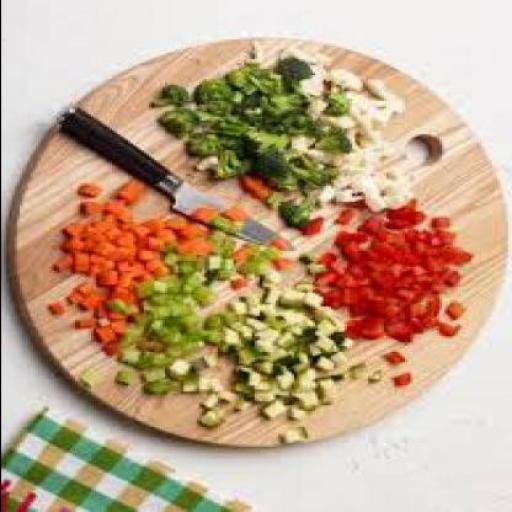biodegradable: (261, 85, 306, 127), (365, 136, 414, 174), (258, 138, 296, 186), (230, 63, 282, 95), (296, 152, 338, 191), (312, 118, 356, 153), (190, 130, 243, 156), (380, 247, 414, 287), (250, 124, 288, 159), (198, 148, 248, 174), (361, 176, 391, 218), (198, 78, 233, 114), (164, 104, 203, 136), (278, 111, 320, 140), (406, 227, 438, 263), (282, 190, 317, 222), (388, 200, 430, 226), (361, 90, 391, 125), (300, 63, 330, 97), (396, 277, 435, 303), (282, 306, 314, 336), (151, 83, 190, 107), (375, 79, 404, 111), (332, 65, 367, 91), (230, 292, 264, 318), (319, 304, 349, 332), (348, 314, 386, 336), (385, 316, 422, 338), (287, 51, 312, 83), (322, 372, 346, 404), (248, 174, 275, 201), (92, 227, 120, 253), (372, 287, 398, 314), (121, 178, 146, 206), (359, 212, 383, 241), (425, 263, 446, 295), (385, 166, 406, 198), (361, 126, 391, 148), (414, 298, 439, 324), (150, 340, 177, 364), (179, 235, 211, 255), (126, 320, 151, 345), (312, 267, 338, 291), (440, 296, 468, 318), (432, 316, 460, 338), (298, 386, 325, 408), (285, 423, 314, 443), (211, 229, 235, 253), (338, 174, 364, 196), (184, 312, 206, 338), (388, 227, 410, 252), (293, 269, 314, 295), (264, 298, 285, 324), (359, 248, 383, 270), (314, 334, 338, 356), (351, 285, 369, 312), (282, 284, 304, 306), (224, 326, 246, 348), (192, 285, 220, 302), (324, 287, 349, 306), (425, 262, 443, 288), (169, 356, 190, 378), (280, 328, 301, 350), (266, 344, 294, 360), (312, 352, 338, 369), (190, 204, 216, 221), (253, 336, 280, 352), (235, 346, 259, 364), (182, 334, 206, 352), (158, 316, 185, 332), (211, 251, 230, 273), (446, 247, 472, 263), (378, 348, 404, 364), (256, 245, 282, 261), (74, 249, 90, 275), (335, 111, 359, 128), (177, 295, 201, 312), (364, 268, 380, 293), (224, 308, 249, 324), (96, 267, 116, 287), (325, 248, 343, 270), (232, 322, 254, 340), (348, 267, 372, 283), (113, 368, 132, 388), (343, 230, 362, 249), (441, 227, 459, 247), (254, 314, 274, 332), (80, 180, 100, 198), (301, 287, 322, 304), (306, 217, 328, 233), (250, 40, 266, 62), (200, 410, 222, 426), (390, 368, 415, 382), (272, 281, 290, 300), (169, 331, 187, 350), (56, 251, 76, 268), (182, 223, 208, 236), (206, 312, 227, 328), (243, 255, 264, 271), (147, 380, 172, 393), (147, 365, 172, 378), (113, 228, 138, 241), (262, 324, 280, 342), (444, 264, 464, 280), (320, 182, 336, 202), (196, 352, 216, 368), (349, 86, 361, 112), (388, 194, 412, 207), (92, 253, 116, 266), (351, 360, 369, 377), (201, 392, 219, 409), (264, 267, 282, 284), (106, 194, 124, 211), (156, 291, 172, 310), (166, 212, 185, 228), (84, 200, 103, 216), (76, 280, 95, 296), (346, 156, 362, 174), (306, 48, 324, 64), (293, 401, 311, 417), (209, 326, 227, 342), (103, 322, 119, 340), (69, 287, 87, 303), (118, 246, 140, 259), (66, 238, 87, 251), (124, 344, 140, 361), (116, 293, 132, 310), (132, 261, 148, 278), (208, 264, 235, 274), (335, 334, 354, 348), (219, 215, 238, 229), (274, 255, 296, 267), (332, 346, 348, 362), (317, 322, 333, 338), (140, 350, 156, 366), (116, 314, 132, 330), (66, 219, 82, 235), (113, 285, 138, 295), (47, 302, 66, 315), (222, 388, 240, 401), (119, 202, 137, 215), (111, 332, 124, 350), (82, 294, 100, 307), (153, 263, 172, 275), (76, 314, 95, 326), (142, 308, 158, 322), (150, 215, 166, 229), (190, 271, 206, 284), (103, 209, 119, 222), (119, 258, 135, 271), (341, 206, 353, 222), (240, 397, 256, 409), (188, 374, 200, 390), (179, 263, 195, 275), (160, 251, 176, 263), (227, 206, 246, 216), (98, 296, 108, 314), (372, 367, 385, 380), (164, 230, 177, 243), (341, 273, 353, 287), (344, 282, 354, 298), (177, 277, 187, 293), (135, 222, 147, 235), (259, 356, 271, 368), (85, 221, 97, 233), (312, 340, 322, 354), (441, 213, 451, 226), (412, 263, 422, 276), (216, 373, 226, 386), (206, 374, 216, 387), (198, 253, 208, 266), (124, 220, 137, 230), (140, 248, 153, 258), (349, 248, 356, 264), (158, 278, 168, 288), (122, 272, 132, 282), (145, 295, 150, 312), (148, 237, 158, 245), (101, 316, 111, 324), (277, 237, 290, 243), (362, 196, 369, 206), (190, 282, 200, 288)
metal: (169, 180, 293, 247)
